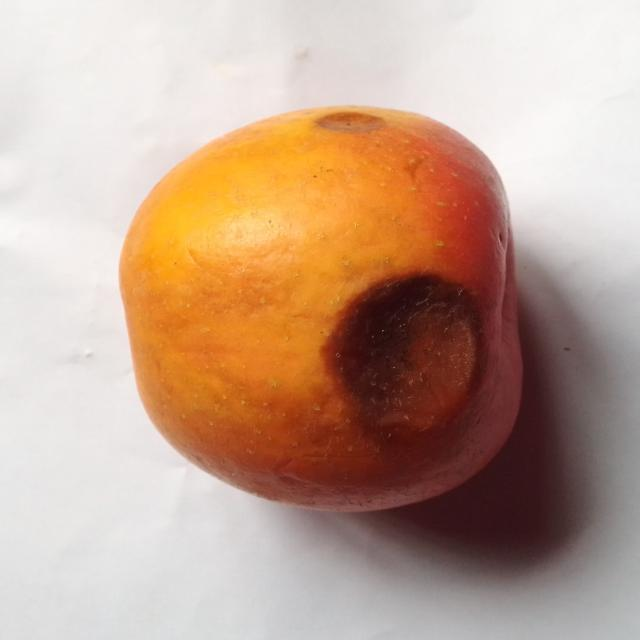apple: (121, 107, 521, 510)
